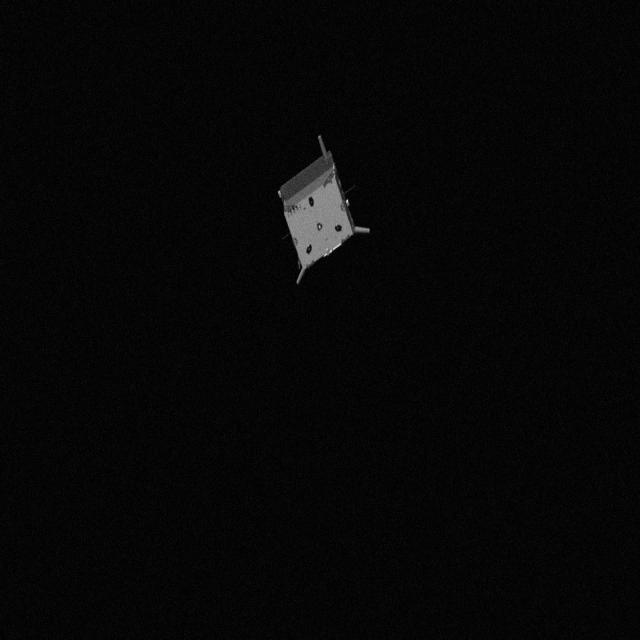medium_debris: (272, 130, 386, 290)
